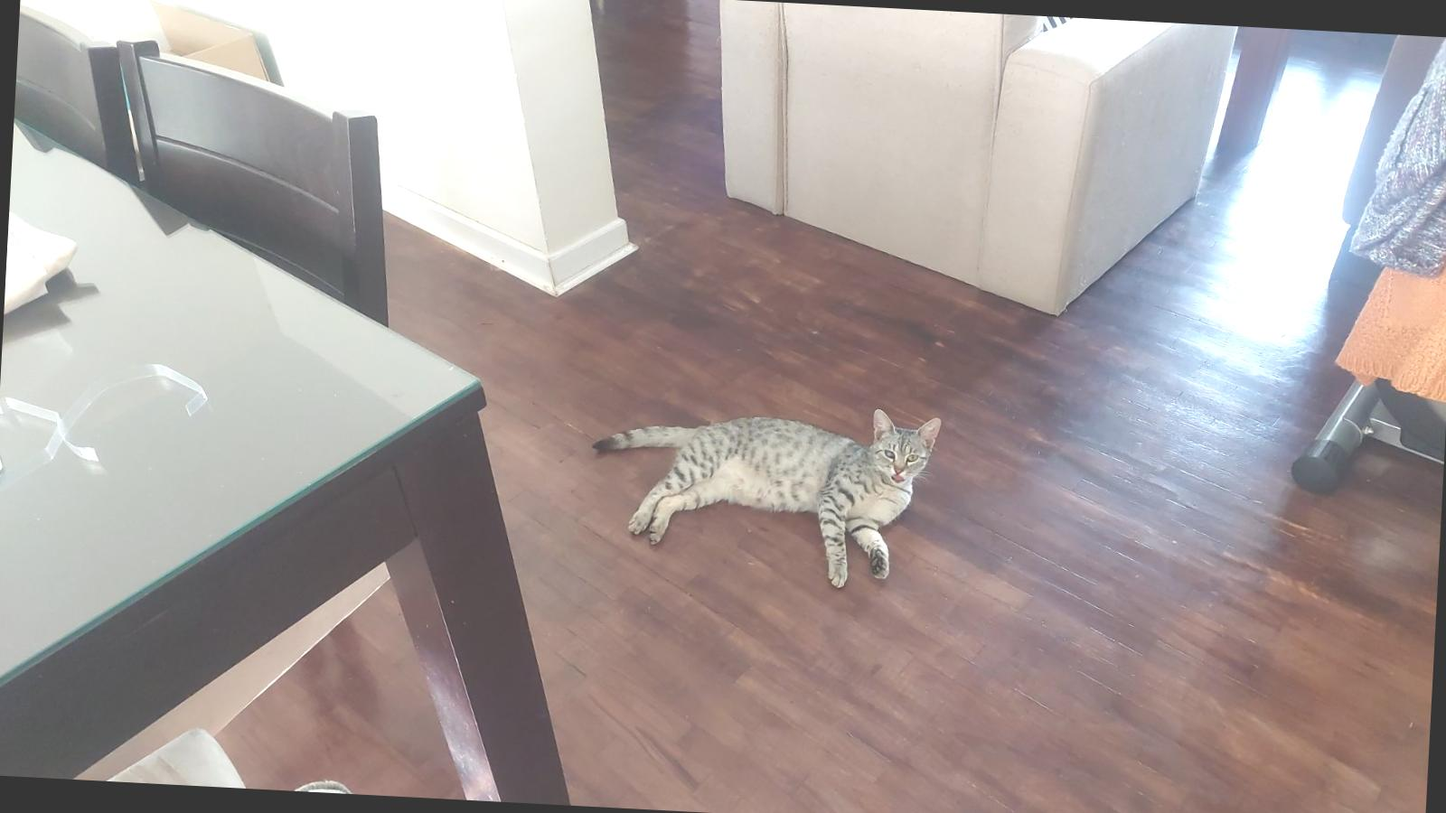macka: (584, 392, 942, 593)
